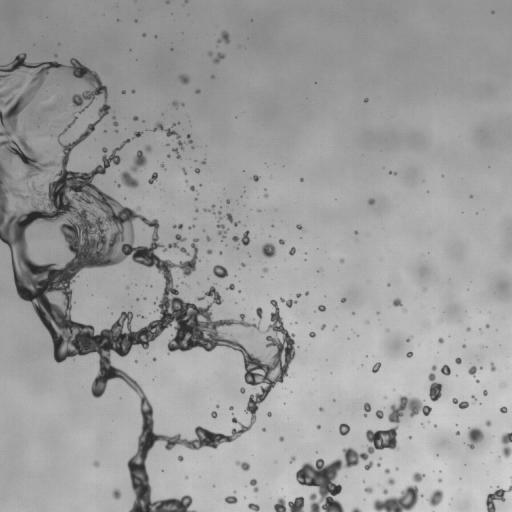droplet: (468, 427, 483, 449), (120, 171, 138, 188), (232, 230, 249, 245), (428, 489, 443, 506), (262, 243, 276, 257), (213, 265, 228, 278), (235, 461, 249, 471), (218, 31, 229, 43), (339, 423, 350, 435), (213, 53, 225, 63), (412, 472, 424, 482), (363, 402, 371, 416), (440, 364, 450, 375), (148, 172, 157, 183), (179, 75, 189, 84), (112, 489, 121, 499), (372, 362, 380, 373), (468, 365, 476, 376), (248, 503, 259, 511), (225, 496, 237, 503), (392, 298, 402, 306), (256, 307, 262, 319), (375, 410, 383, 418), (364, 461, 372, 469), (133, 131, 142, 138), (226, 283, 234, 290), (500, 406, 507, 413), (289, 247, 295, 255), (364, 487, 372, 493), (252, 175, 259, 181), (318, 305, 325, 311), (455, 357, 461, 364), (211, 411, 217, 418), (388, 478, 394, 485), (490, 363, 495, 371), (368, 198, 374, 204), (309, 331, 315, 337), (406, 351, 412, 357), (485, 420, 491, 426), (296, 224, 302, 229), (240, 387, 245, 393), (471, 395, 476, 401), (290, 456, 295, 462), (384, 468, 390, 473), (190, 185, 195, 190), (279, 239, 284, 244), (207, 249, 212, 254), (296, 293, 301, 298), (320, 324, 325, 329), (438, 338, 443, 343), (94, 461, 99, 466), (182, 168, 186, 174), (177, 456, 183, 460), (133, 116, 138, 120), (113, 120, 117, 125), (195, 168, 199, 173), (206, 236, 210, 241), (263, 267, 267, 272), (483, 390, 487, 395), (279, 436, 283, 441), (383, 489, 387, 494), (196, 89, 200, 93), (341, 298, 345, 302), (466, 327, 470, 331), (462, 344, 466, 348), (229, 406, 233, 410), (319, 407, 323, 411), (267, 412, 271, 416), (50, 105, 55, 108), (189, 225, 194, 228), (208, 52, 212, 55), (364, 98, 367, 102), (202, 160, 205, 164), (161, 164, 164, 168), (486, 324, 489, 328), (316, 425, 320, 428), (456, 431, 459, 435), (438, 478, 441, 482), (166, 0, 169, 3), (264, 194, 267, 197), (226, 199, 229, 202), (354, 231, 357, 234), (340, 259, 343, 262), (241, 263, 244, 266), (305, 291, 308, 294), (407, 338, 410, 341), (476, 379, 479, 382), (262, 428, 265, 431), (377, 463, 380, 466), (184, 0, 187, 2), (143, 33, 145, 36), (122, 90, 124, 93), (132, 90, 134, 93), (34, 123, 37, 125), (300, 178, 303, 180), (195, 209, 198, 211), (423, 288, 425, 291), (153, 358, 156, 360), (216, 405, 219, 407), (167, 155, 169, 157), (470, 195, 472, 197), (258, 209, 260, 211), (219, 252, 221, 254), (403, 309, 405, 311), (502, 384, 504, 386), (434, 424, 436, 426), (409, 436, 411, 438), (498, 458, 500, 460)
ligament: (0, 54, 294, 511), (296, 395, 432, 511), (373, 485, 421, 511), (152, 122, 183, 158), (485, 485, 511, 511), (130, 145, 151, 172), (428, 365, 442, 401), (274, 496, 304, 511), (0, 83, 20, 105), (500, 432, 511, 457), (217, 217, 227, 239), (204, 204, 221, 215), (452, 398, 469, 409), (280, 297, 296, 307), (226, 213, 239, 225), (250, 479, 258, 492), (172, 101, 184, 107), (173, 224, 182, 229), (187, 135, 192, 143), (351, 507, 361, 511), (390, 171, 396, 175), (139, 315, 144, 318)
